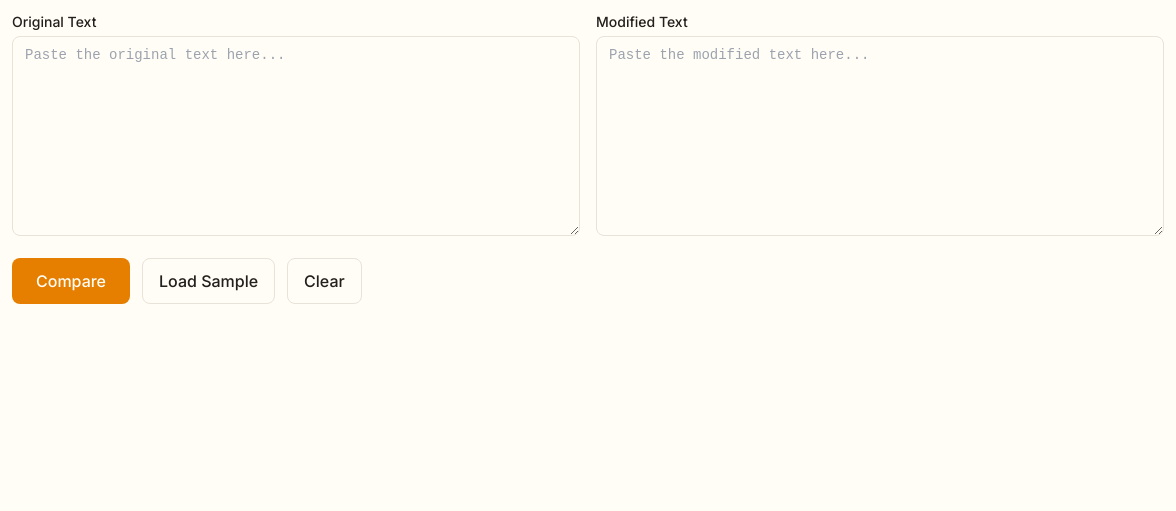
it: TextDiff › shows stats with zero values when both inputs are empty
Click the button with aria-label "Compare texts". click: point(71, 281)
box: [12,258,130,304]
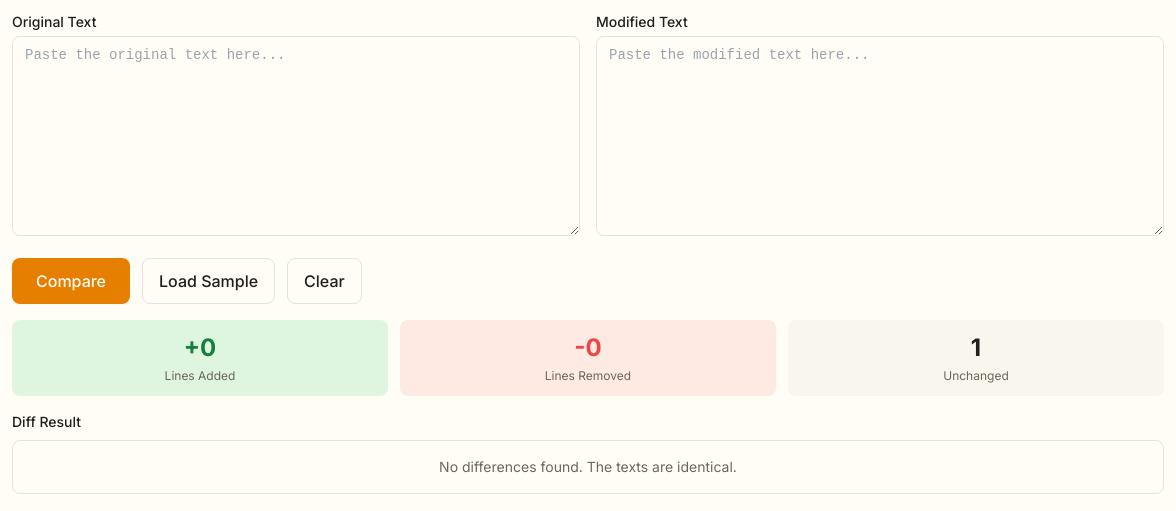
Expected: the text "Unchanged" is shown, [943,368,1009,383]
